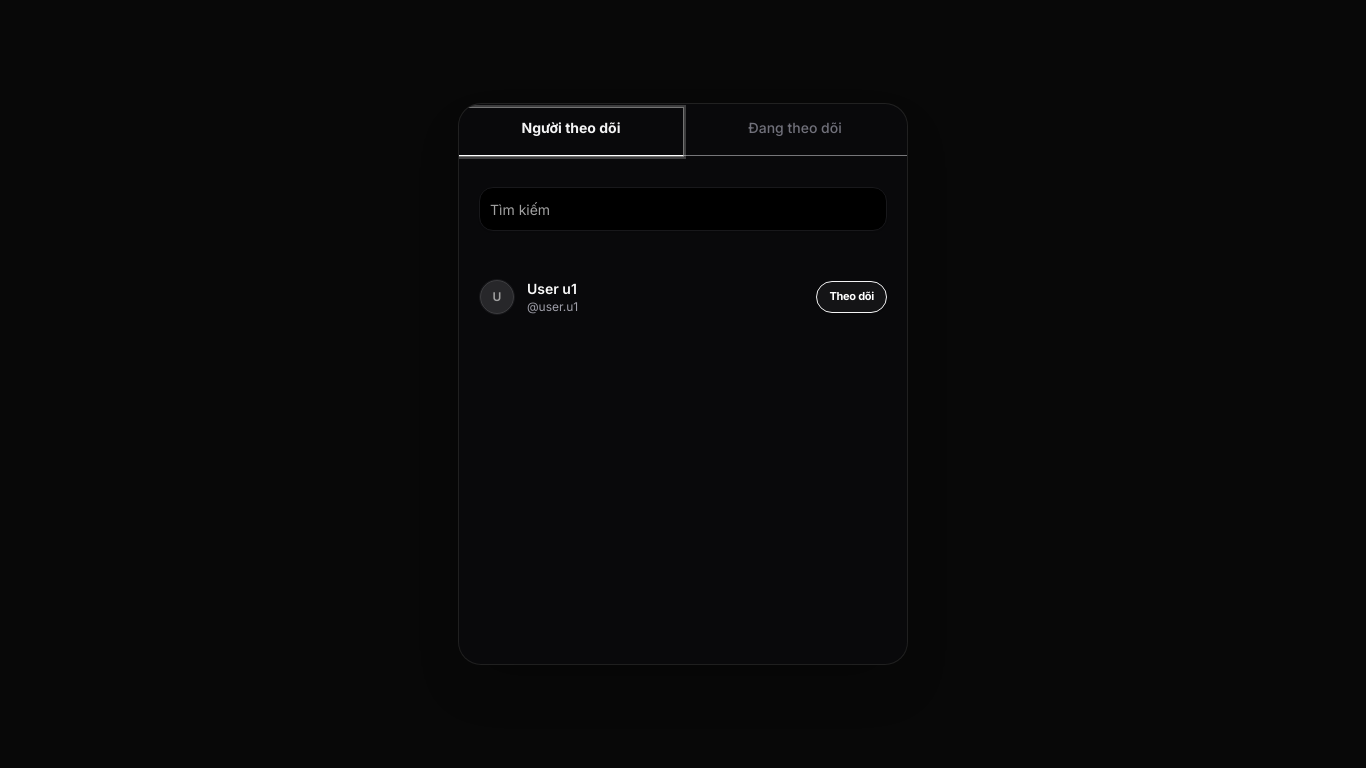
Test case: FollowersDialog › explains an empty search result
Check: the number of list items is 1, box [479,267,887,327]
In the search field: (683, 209) [479,187,887,231], type "zzz"
Wait 260 ms
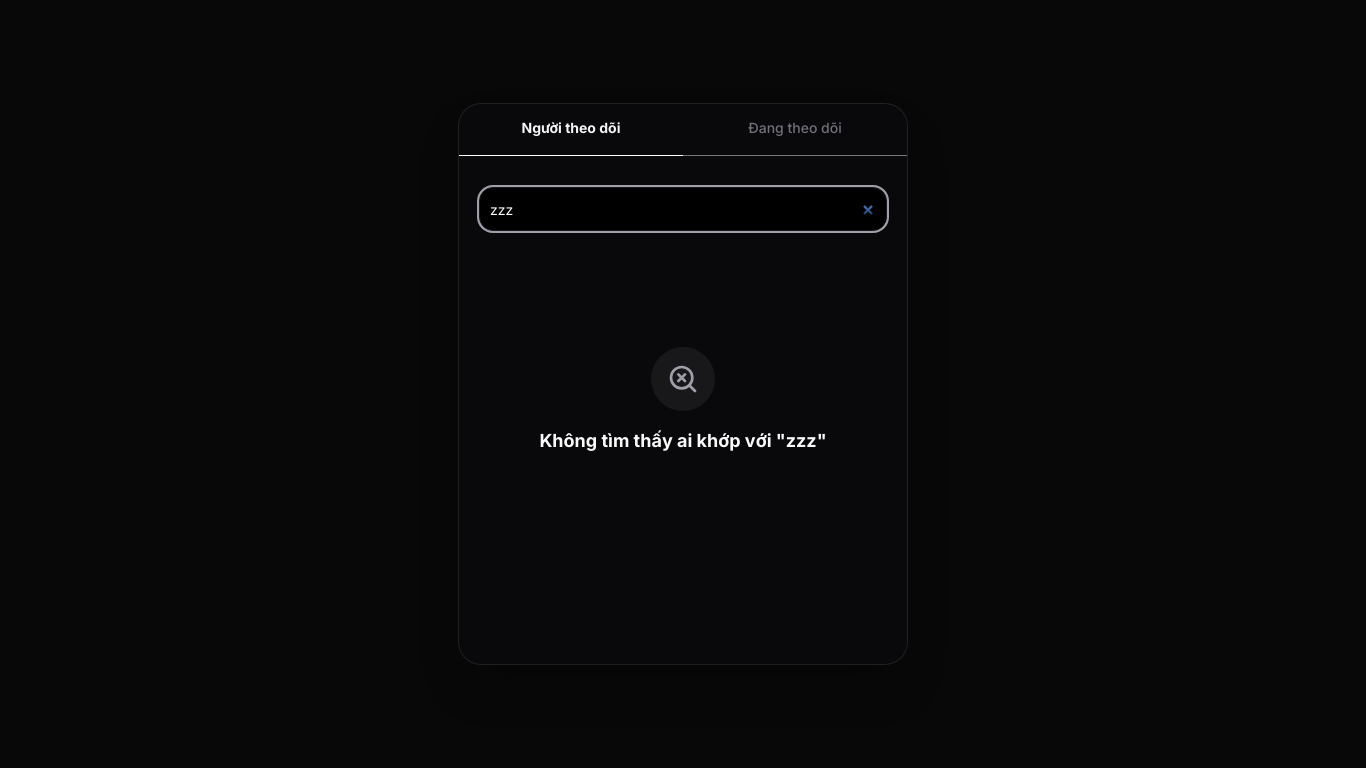
Check: the heading "Không tìm thấy ai khớp với \"zzz\"" is shown, box [539,427,827,455]
